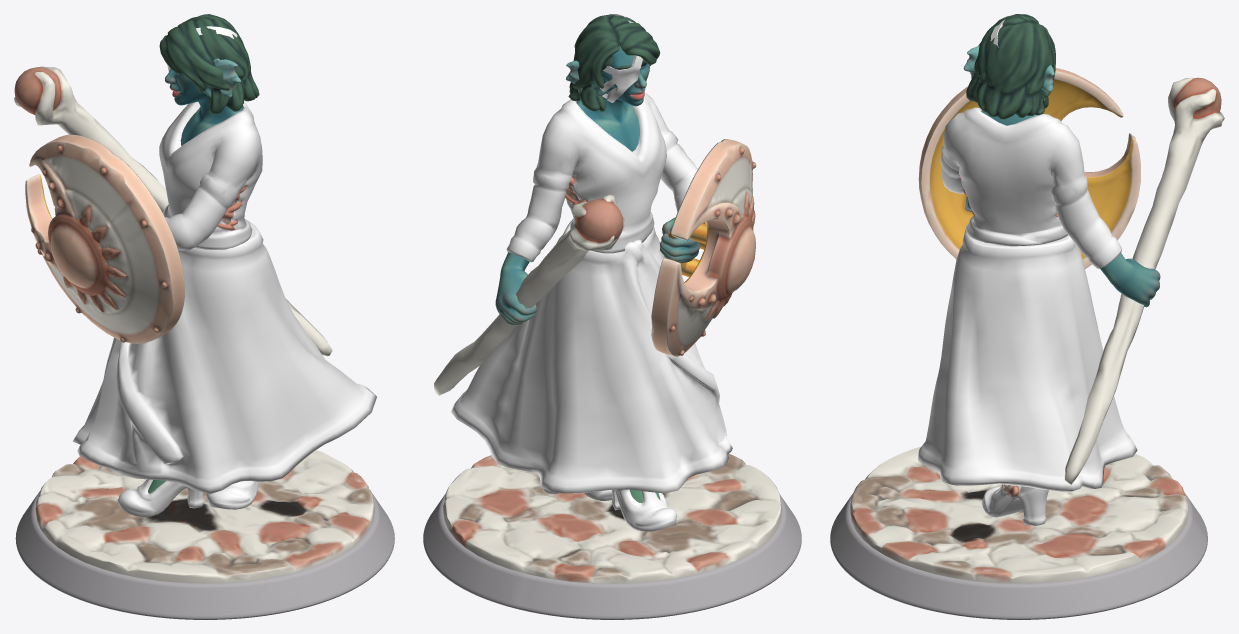
3 views of the same model, side by side, from view 1: azimuth 30°, elevation 25°; view 2: azimuth 150°, elevation 25°; view 3: azimuth 270°, elevation 25° (orthographic).
Parts seen in each view (by area): view 1: hf_4016426_5369694; view 2: hf_4016426_5369694; view 3: hf_4016426_5369694.
Boxes of the visible parts, x1,y1,x2,y2 form: hf_4016426_5369694: [14, 14, 394, 619]; hf_4016426_5369694: [423, 14, 801, 619]; hf_4016426_5369694: [830, 14, 1224, 619].
Bounding box in the file's own units: 0.9652 × 1.47 × 1.01.
1 material, 1 textured.
